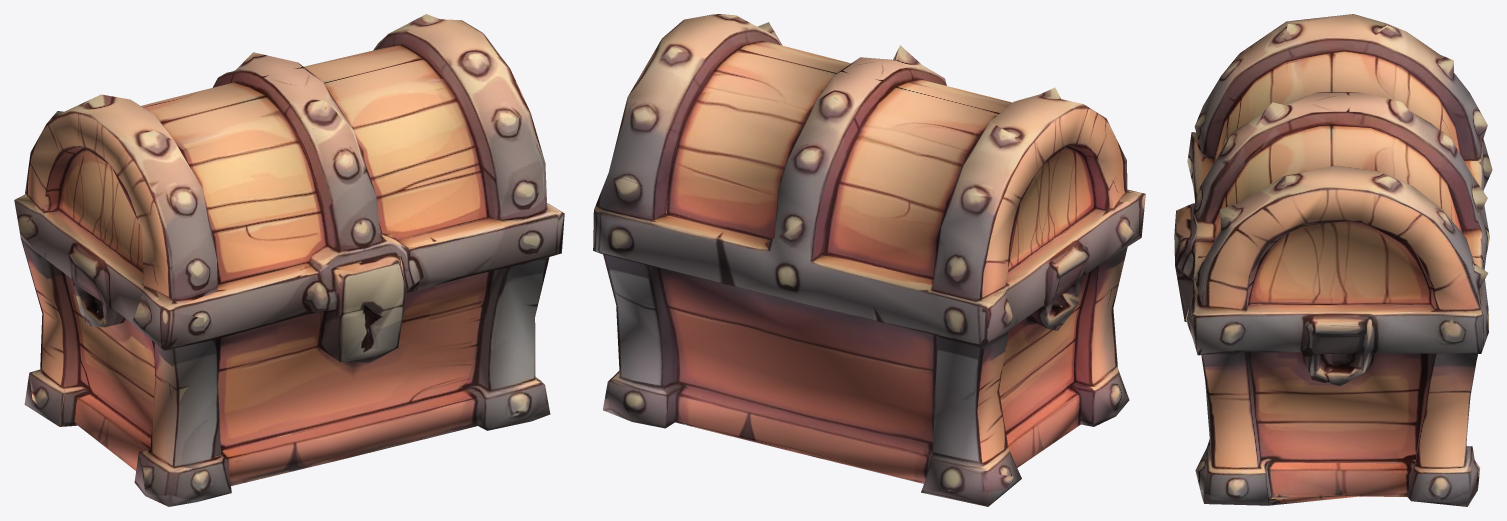
Rendered from chest-plain.glb.
3 views of the same model, side by side, from view 1: azimuth 30°, elevation 25°; view 2: azimuth 150°, elevation 25°; view 3: azimuth 270°, elevation 25° (orthographic). The views are drawn at different scales.
Parts seen in each view (by area): view 1: Mesh1.0; view 2: Mesh1.0; view 3: Mesh1.0.
Part boxes in pixels (x1=…): Mesh1.0: x1=14, y1=14, x2=564, y2=506; Mesh1.0: x1=593, y1=14, x2=1145, y2=506; Mesh1.0: x1=1174, y1=14, x2=1492, y2=506.
Size of the model in its own units: 1.93 by 1.5 by 1.36.
Materials: 1 (1 with a texture image).
